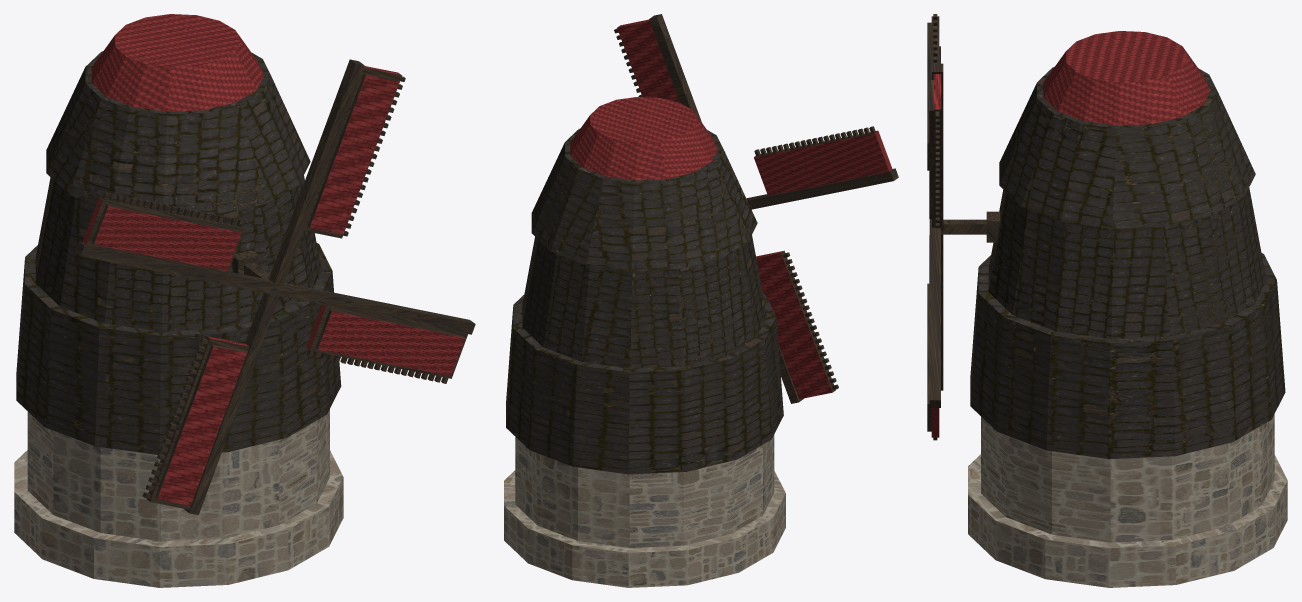
Rendered from prop-windmill_2.fbx.
3 renders of one model, left to right at view 1: azimuth 30°, elevation 25°; view 2: azimuth 150°, elevation 25°; view 3: azimuth 270°, elevation 25°, orthographic. The views are drawn at different scales.
Visible parts, largest first — view 1: Cylinder.004; view 2: Cylinder.004; view 3: Cylinder.004.
Boxes of the visible parts, x1=… form: Cylinder.004: x1=14, y1=14, x2=475, y2=587; Cylinder.004: x1=504, y1=14, x2=898, y2=587; Cylinder.004: x1=927, y1=14, x2=1287, y2=587.
Size of the model in its own units: 627 by 772 by 511.
